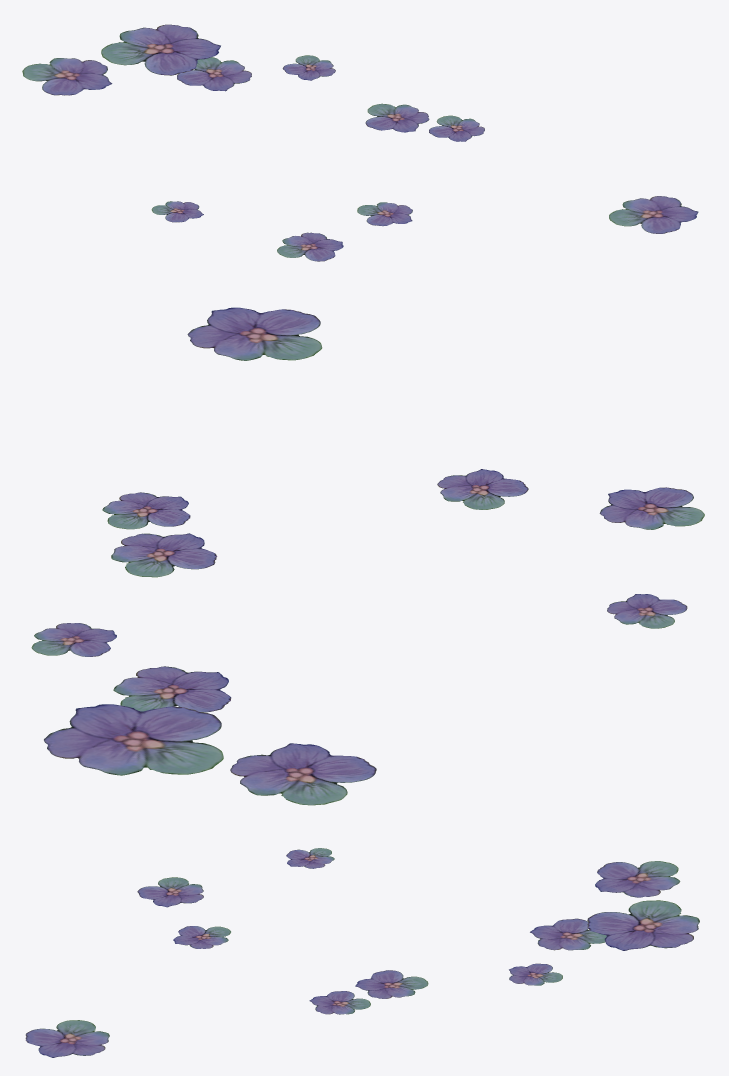
The model's file is 110101_flower_005.FBX.
The picture shows the model from 3 angles, top to bottom: view 1: azimuth 30°, elevation 25°; view 2: azimuth 150°, elevation 25°; view 3: azimuth 270°, elevation 25°; orthographic projection. The views are drawn at different scales.
Parts seen in each view (by area): view 1: 110101_flower_005; view 2: 110101_flower_005; view 3: 110101_flower_005.
Part boxes in pixels (x1=…): 110101_flower_005: x1=22, y1=24, x2=698, y2=261; 110101_flower_005: x1=31, y1=307, x2=704, y2=805; 110101_flower_005: x1=25, y1=848, x2=699, y2=1057.
Size of the model in its own units: 1.1 by 0.0269 by 1.53.
